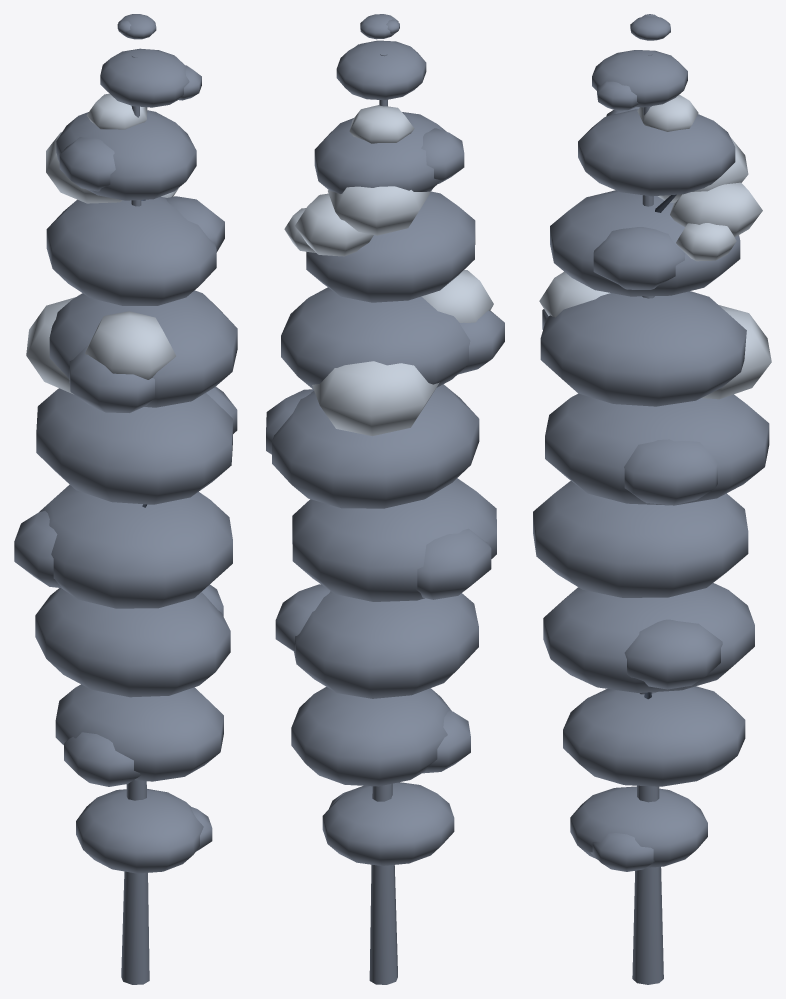
The model's file is 柱形乔木-lite.glb.
The picture shows the model from 3 angles, left to right: view 1: azimuth 30°, elevation 25°; view 2: azimuth 150°, elevation 25°; view 3: azimuth 270°, elevation 25°; orthographic projection.
Visible parts, largest first — view 1: garden-tree-columnar-leaf, garden-tree-columnar-light, garden-tree-columnar-trunk; view 2: garden-tree-columnar-leaf, garden-tree-columnar-light, garden-tree-columnar-trunk; view 3: garden-tree-columnar-leaf, garden-tree-columnar-light, garden-tree-columnar-trunk.
Boxes of the visible parts, bbox=[...] form: garden-tree-columnar-leaf: bbox=[14, 14, 237, 873]; garden-tree-columnar-light: bbox=[26, 93, 178, 394]; garden-tree-columnar-trunk: bbox=[121, 56, 149, 984]; garden-tree-columnar-leaf: bbox=[266, 14, 504, 865]; garden-tree-columnar-light: bbox=[284, 105, 493, 436]; garden-tree-columnar-trunk: bbox=[369, 54, 397, 984]; garden-tree-columnar-leaf: bbox=[533, 14, 769, 871]; garden-tree-columnar-light: bbox=[539, 94, 771, 399]; garden-tree-columnar-trunk: bbox=[632, 54, 663, 984].
Bounding box in the file's own units: 0.7201 × 3.2 × 0.7199.
